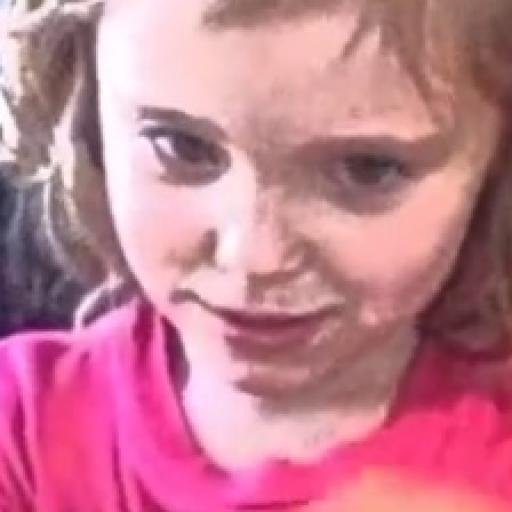Autism: (82, 5, 512, 477)
